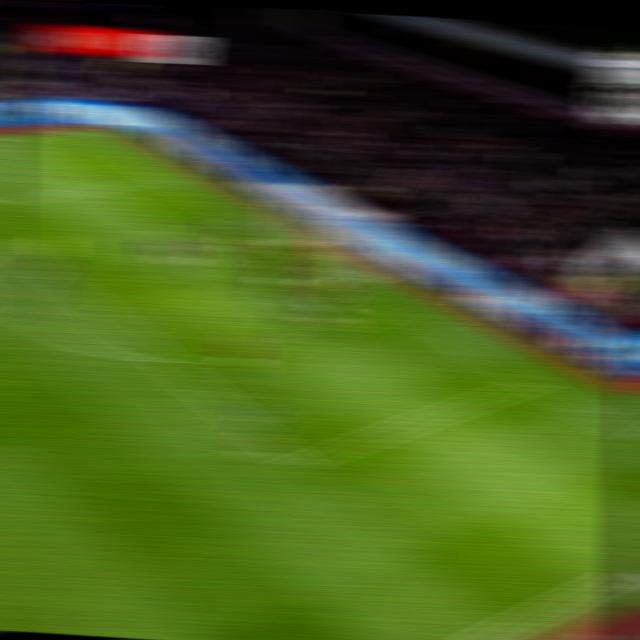bigarea_bottom_inner: (281, 452, 317, 477)
bigarea_bottom_outter: (515, 374, 547, 389)
bigarea_top_outter: (151, 172, 179, 183)
bottom_arc_area_intersection: (147, 350, 180, 370)
corner: (66, 128, 98, 136)
smallarea_bottom_inner: (323, 321, 354, 337)
smallarea_bottom_outter: (384, 303, 417, 318)
smallarea_top_inner: (164, 227, 193, 240)
smallarea_top_outter: (227, 215, 256, 226)
top_arc_area_intersection: (29, 262, 57, 275)
